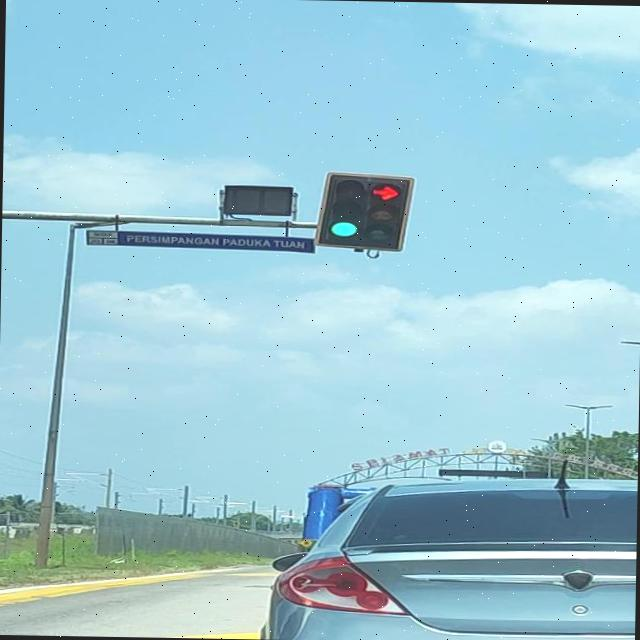green_light: (317, 173, 370, 247)
red_light: (359, 175, 415, 254)
